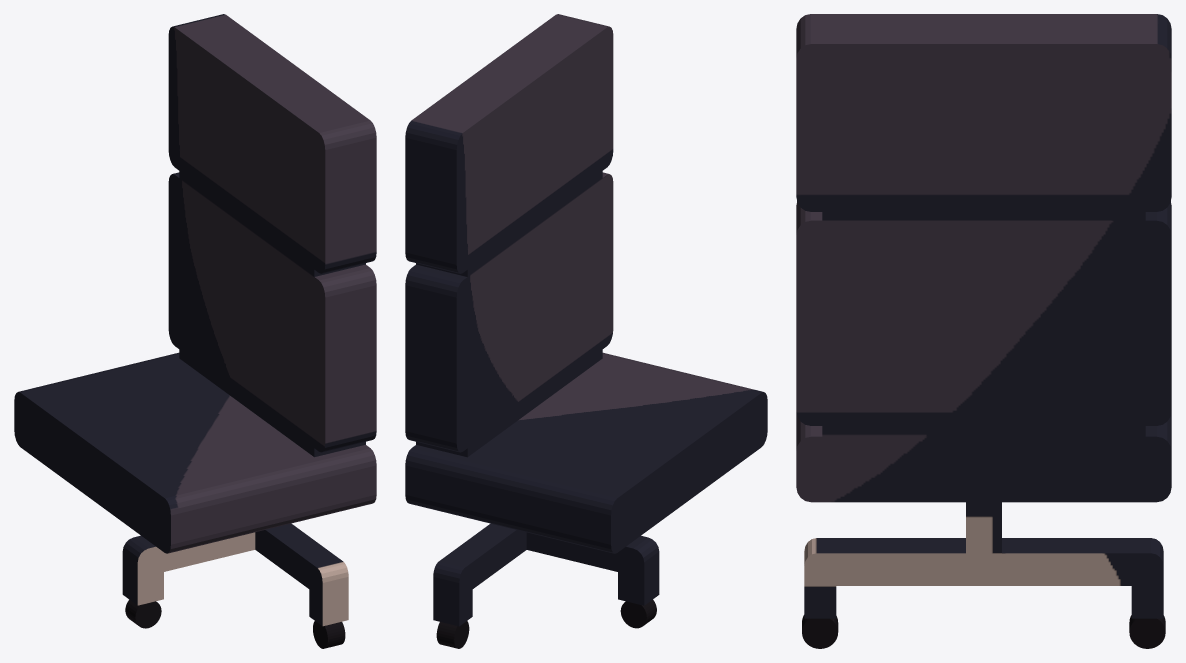
File: office chair.fbx
3 views of the same model, side by side, from view 1: azimuth 30°, elevation 25°; view 2: azimuth 150°, elevation 25°; view 3: azimuth 270°, elevation 25° (orthographic). The views are drawn at different scales.
Visible parts, largest first — view 1: chair, Cube.002, Cylinder.001; view 2: chair, Cube.002, Cylinder.001; view 3: chair, Cube.002, Cylinder.001.
Boxes of the visible parts, left/top/right/bottom form: chair: left=14, top=14, right=376, bottom=553; Cube.002: left=122, top=523, right=348, bottom=626; Cylinder.001: left=125, top=599, right=345, bottom=648; chair: left=405, top=14, right=767, bottom=553; Cube.002: left=433, top=523, right=659, bottom=626; Cylinder.001: left=436, top=599, right=656, bottom=648; chair: left=796, top=14, right=1171, bottom=502; Cube.002: left=804, top=502, right=1163, bottom=618; Cylinder.001: left=802, top=615, right=1165, bottom=648.
Bounding box in the file's own units: 78.83 × 190 × 104.
3 materials, 3 textured.
